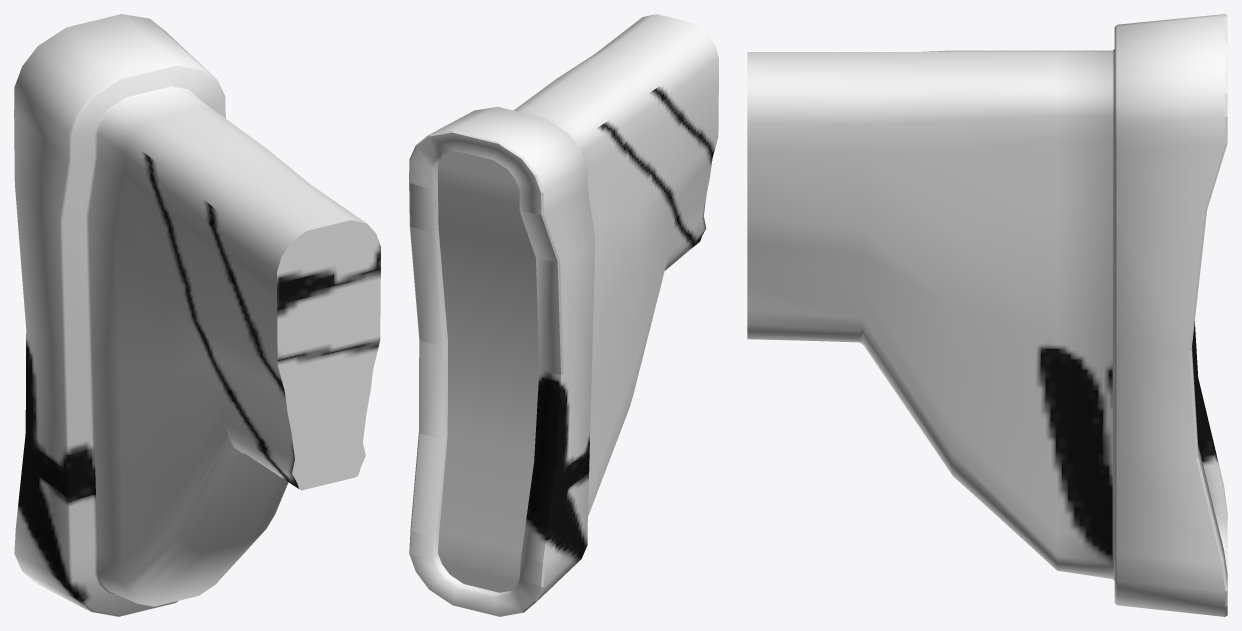
The model's file is Stock - Default (SCAR-Enforcer 557).fbx.
The picture shows the model from 3 angles, left to right: view 1: azimuth 30°, elevation 25°; view 2: azimuth 150°, elevation 25°; view 3: azimuth 270°, elevation 25°; orthographic projection. The views are drawn at different scales.
Parts seen in each view (by area): view 1: Stock - Default (SCAR-Enforcer 557); view 2: Stock - Default (SCAR-Enforcer 557); view 3: Stock - Default (SCAR-Enforcer 557).
Part boxes in pixels (x1,y1,x2,y2): Stock - Default (SCAR-Enforcer 557): [14, 14, 380, 616]; Stock - Default (SCAR-Enforcer 557): [409, 14, 718, 616]; Stock - Default (SCAR-Enforcer 557): [747, 14, 1227, 616].
Bounding box in the file's own units: 5.17 × 15.57 × 11.86.
